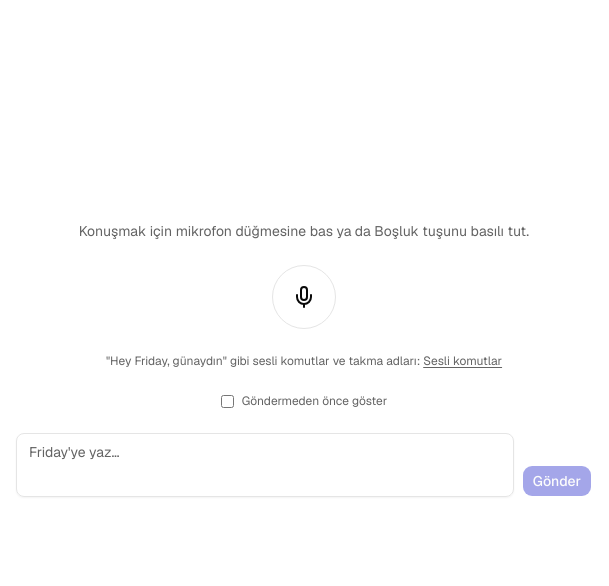
Test: VoiceView › publishes its phase and captions as the tab's voice presence, cleared on unmount
Press the mouse on the button with test id "voice-mic": (304, 297) [272, 265, 336, 329]
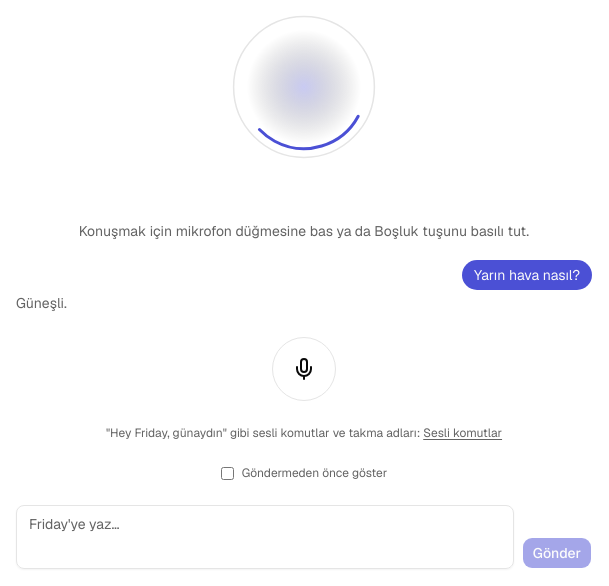
Expected: the text "Yarın hava nasıl?" is shown, [462, 260, 592, 290]
